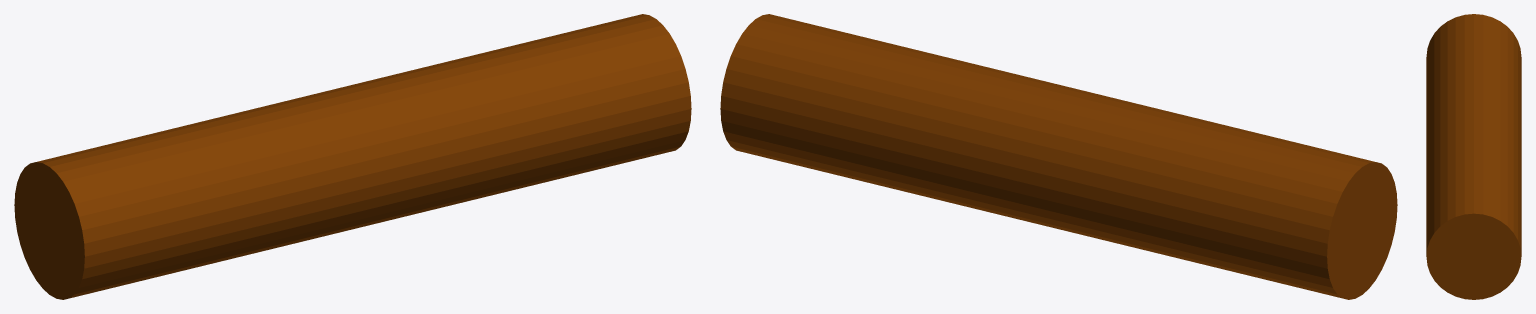
The model's file is hammer_handle.obj.
The picture shows the model from 3 angles, left to right: view 1: azimuth 30°, elevation 25°; view 2: azimuth 150°, elevation 25°; view 3: azimuth 270°, elevation 25°; orthographic projection. The views are drawn at different scales.
Size of the model in its own units: 0.1724 by 0.0347 by 0.0347.
